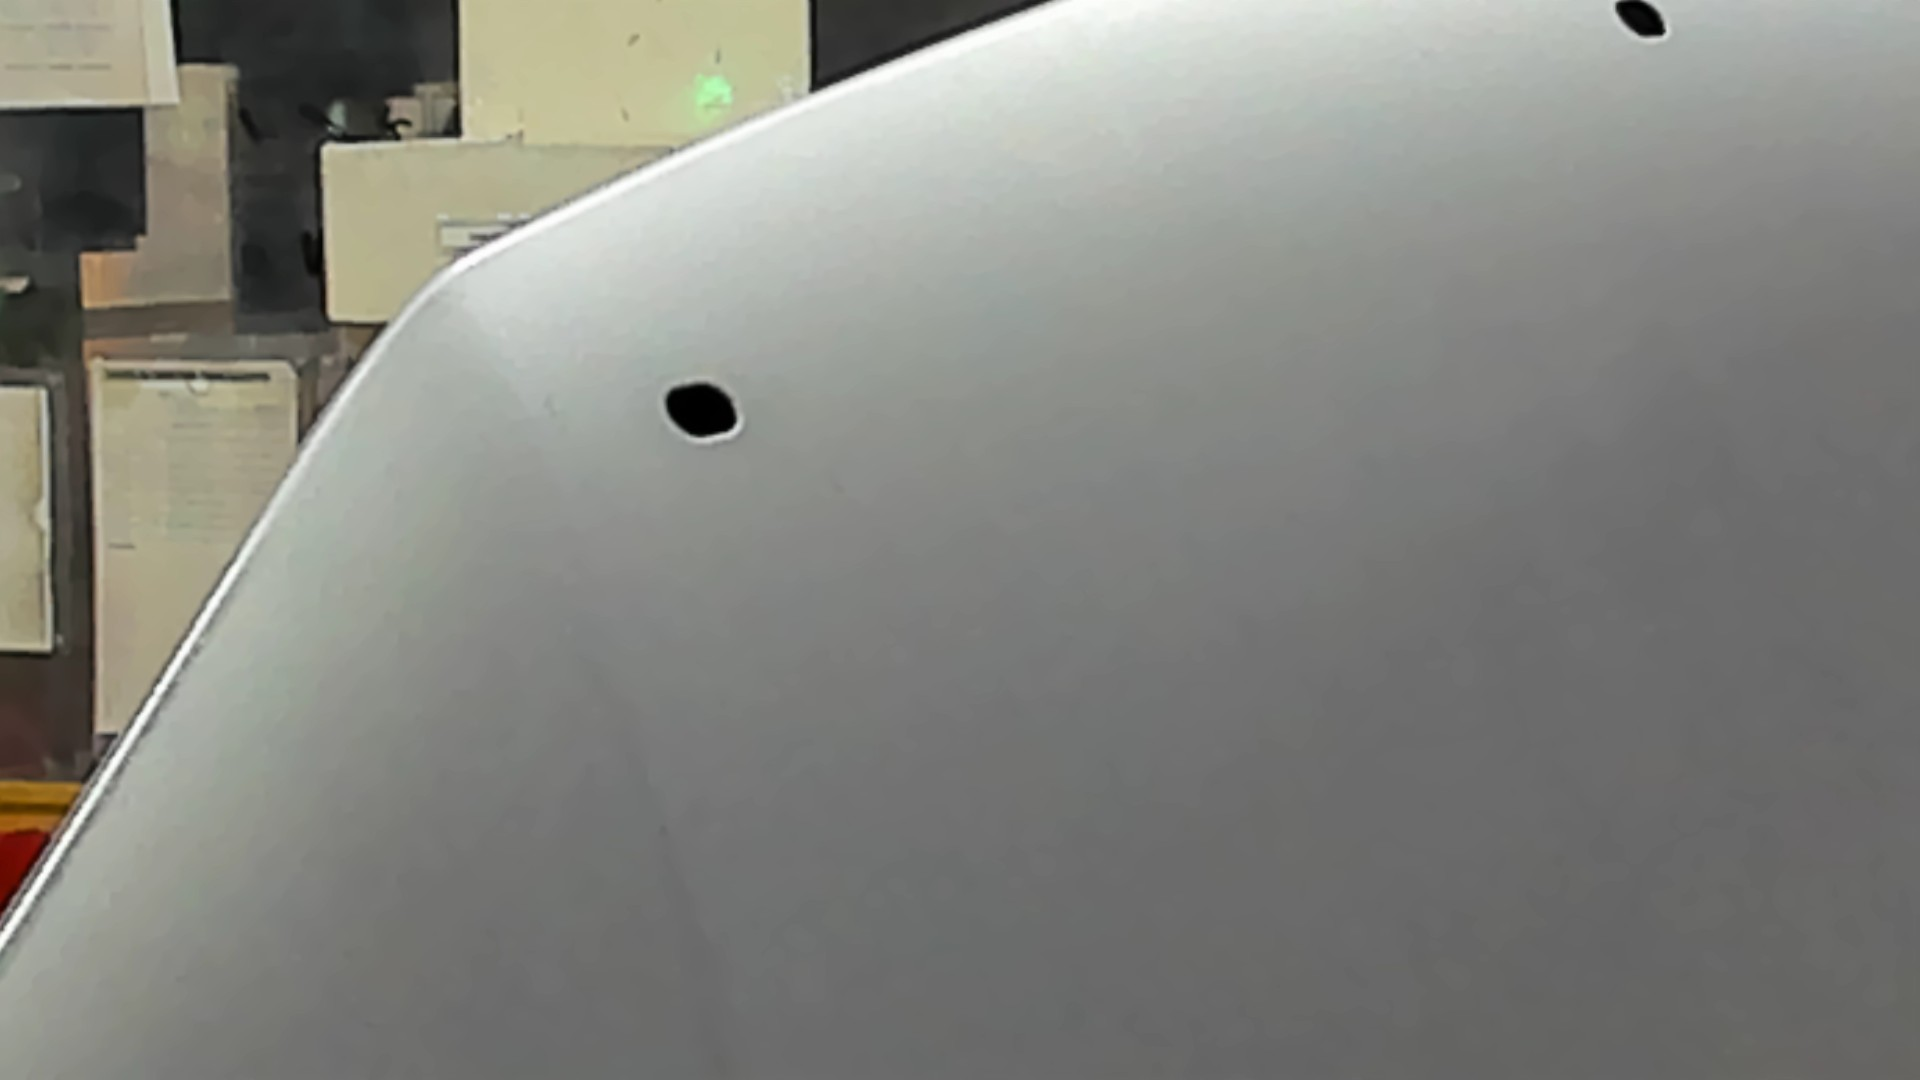chico: (651, 372, 752, 454), (1604, 1, 1673, 53)
